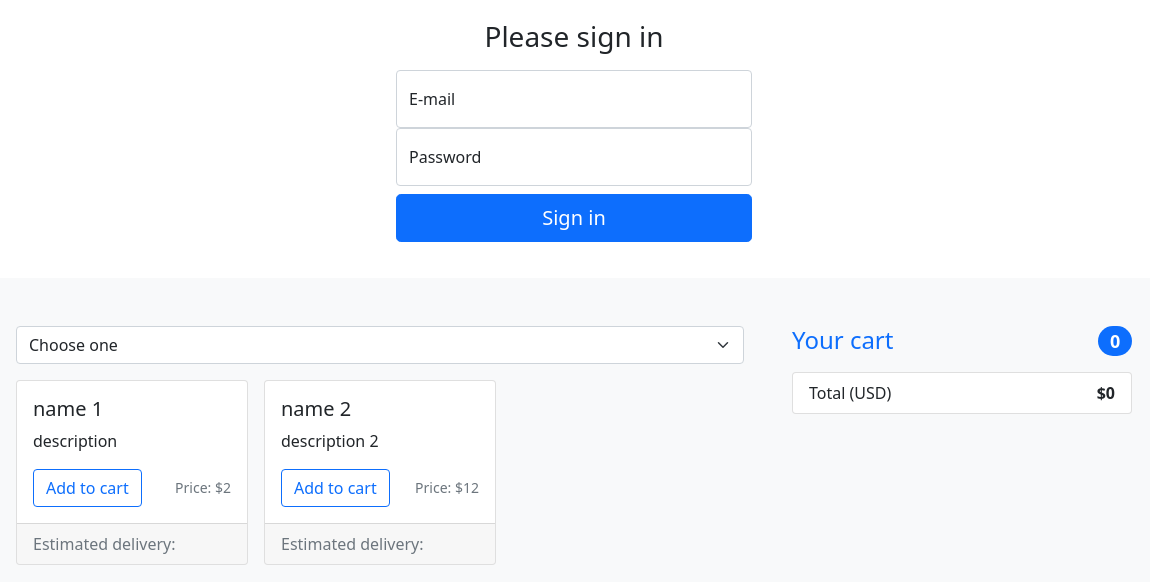
Scenario: Home component › One click buy
The image size is (1150, 582).
Expected: the text with test id "badge" reads "0", [1110, 329, 1120, 353]
Step 1. Click the button with test id "addToCart" below "name 1" → (87,488), box [33, 469, 142, 507]
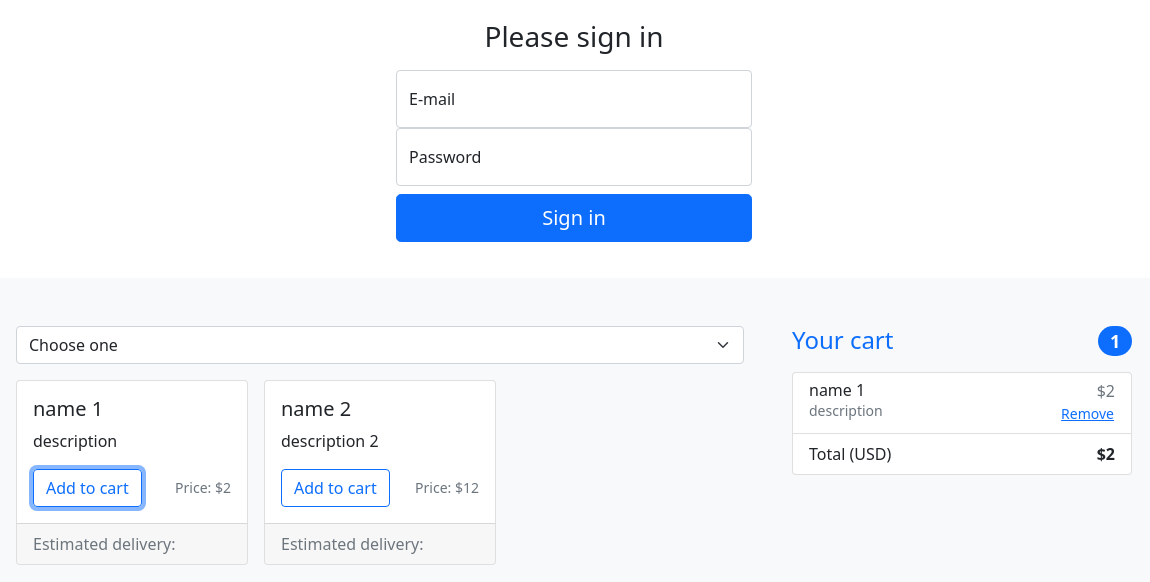
Step 2. Click the button with test id "addToCart" in the row of "12" → (335,488), box [281, 469, 390, 507]
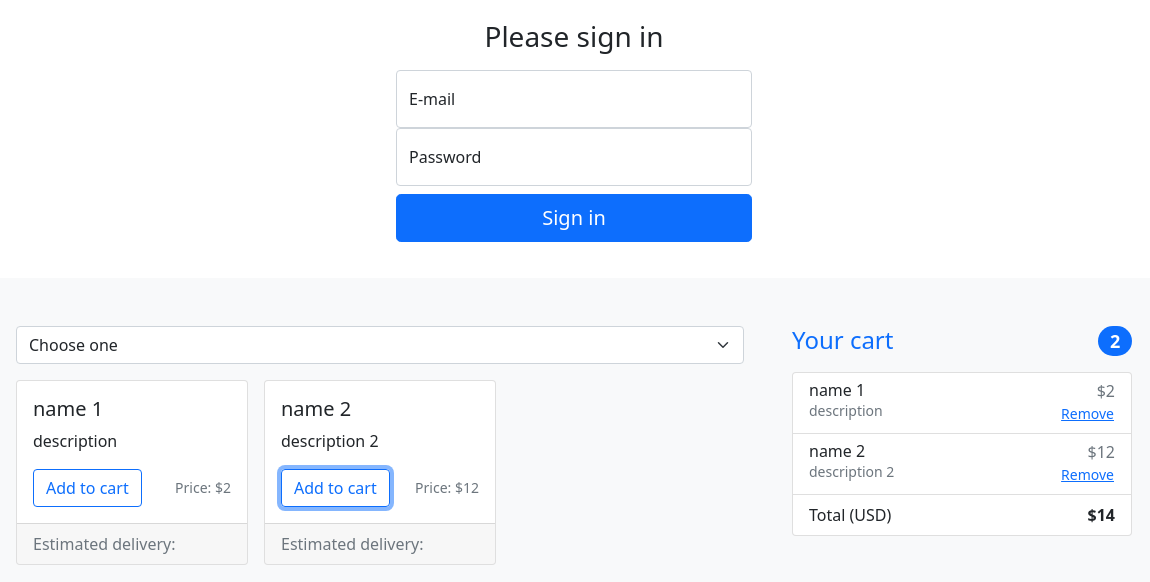
Result: the text with test id "badge" reads "2" at [1110, 329, 1120, 353]
Result: the text with test id "cartTotal" shows "14" at [1097, 504, 1115, 526]
Step 3. Click the button with test id "submitLogin" → (574,218), box [396, 194, 752, 242]
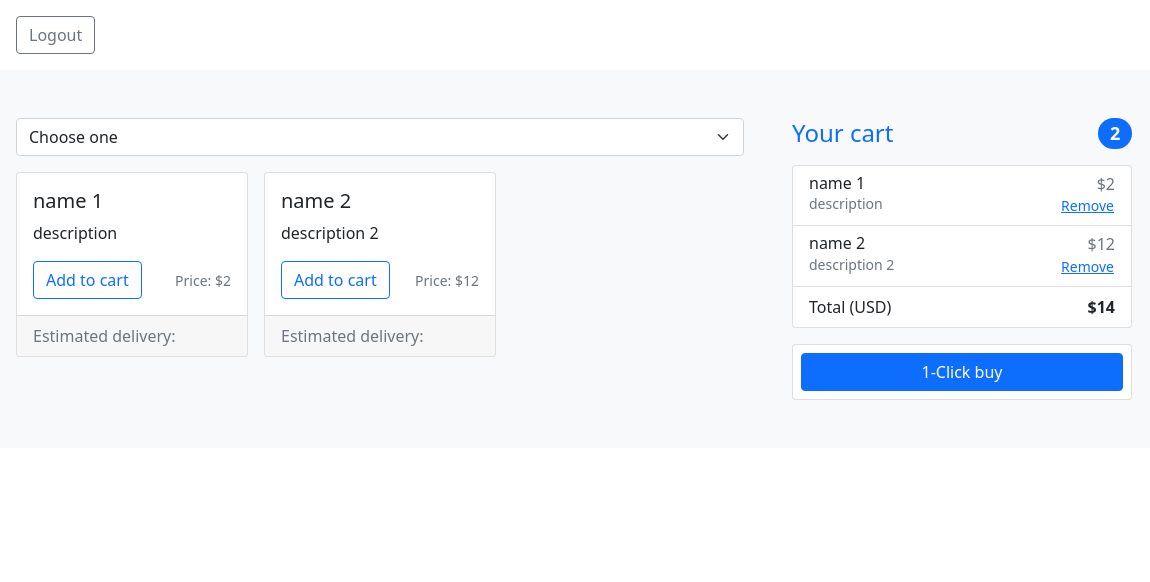
Result: the button with test id "oneClickBuy" is shown
Step 4. Click the button with test id "oneClickBuy" → (962,372), box [801, 353, 1123, 391]
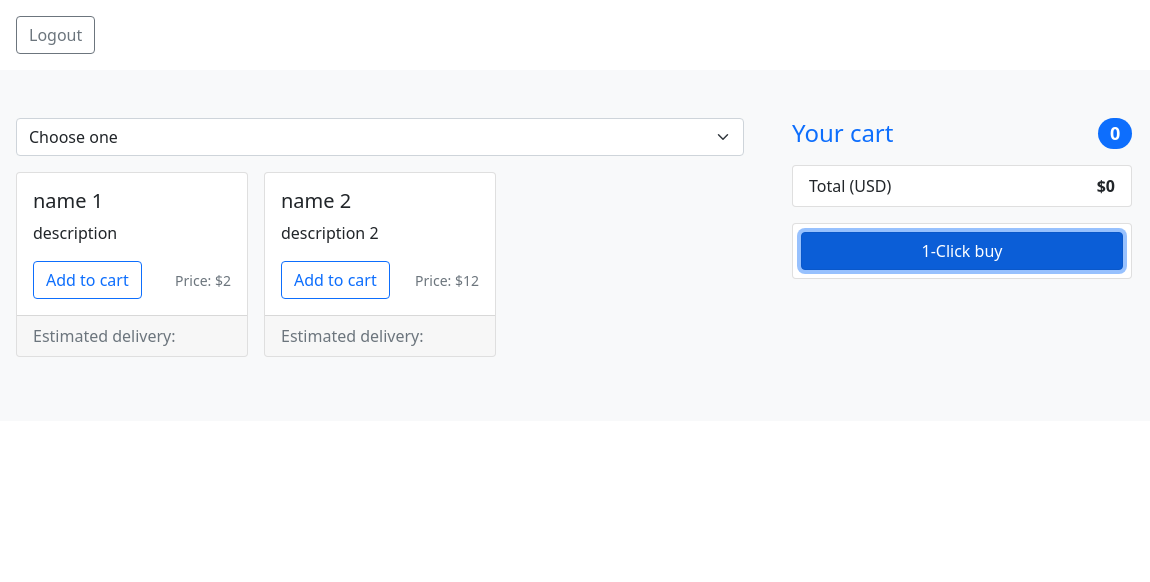
Result: the text with test id "badge" reads "0" at [1110, 121, 1120, 145]
Result: the text with test id "cartTotal" shows "0" at [1106, 175, 1115, 197]
